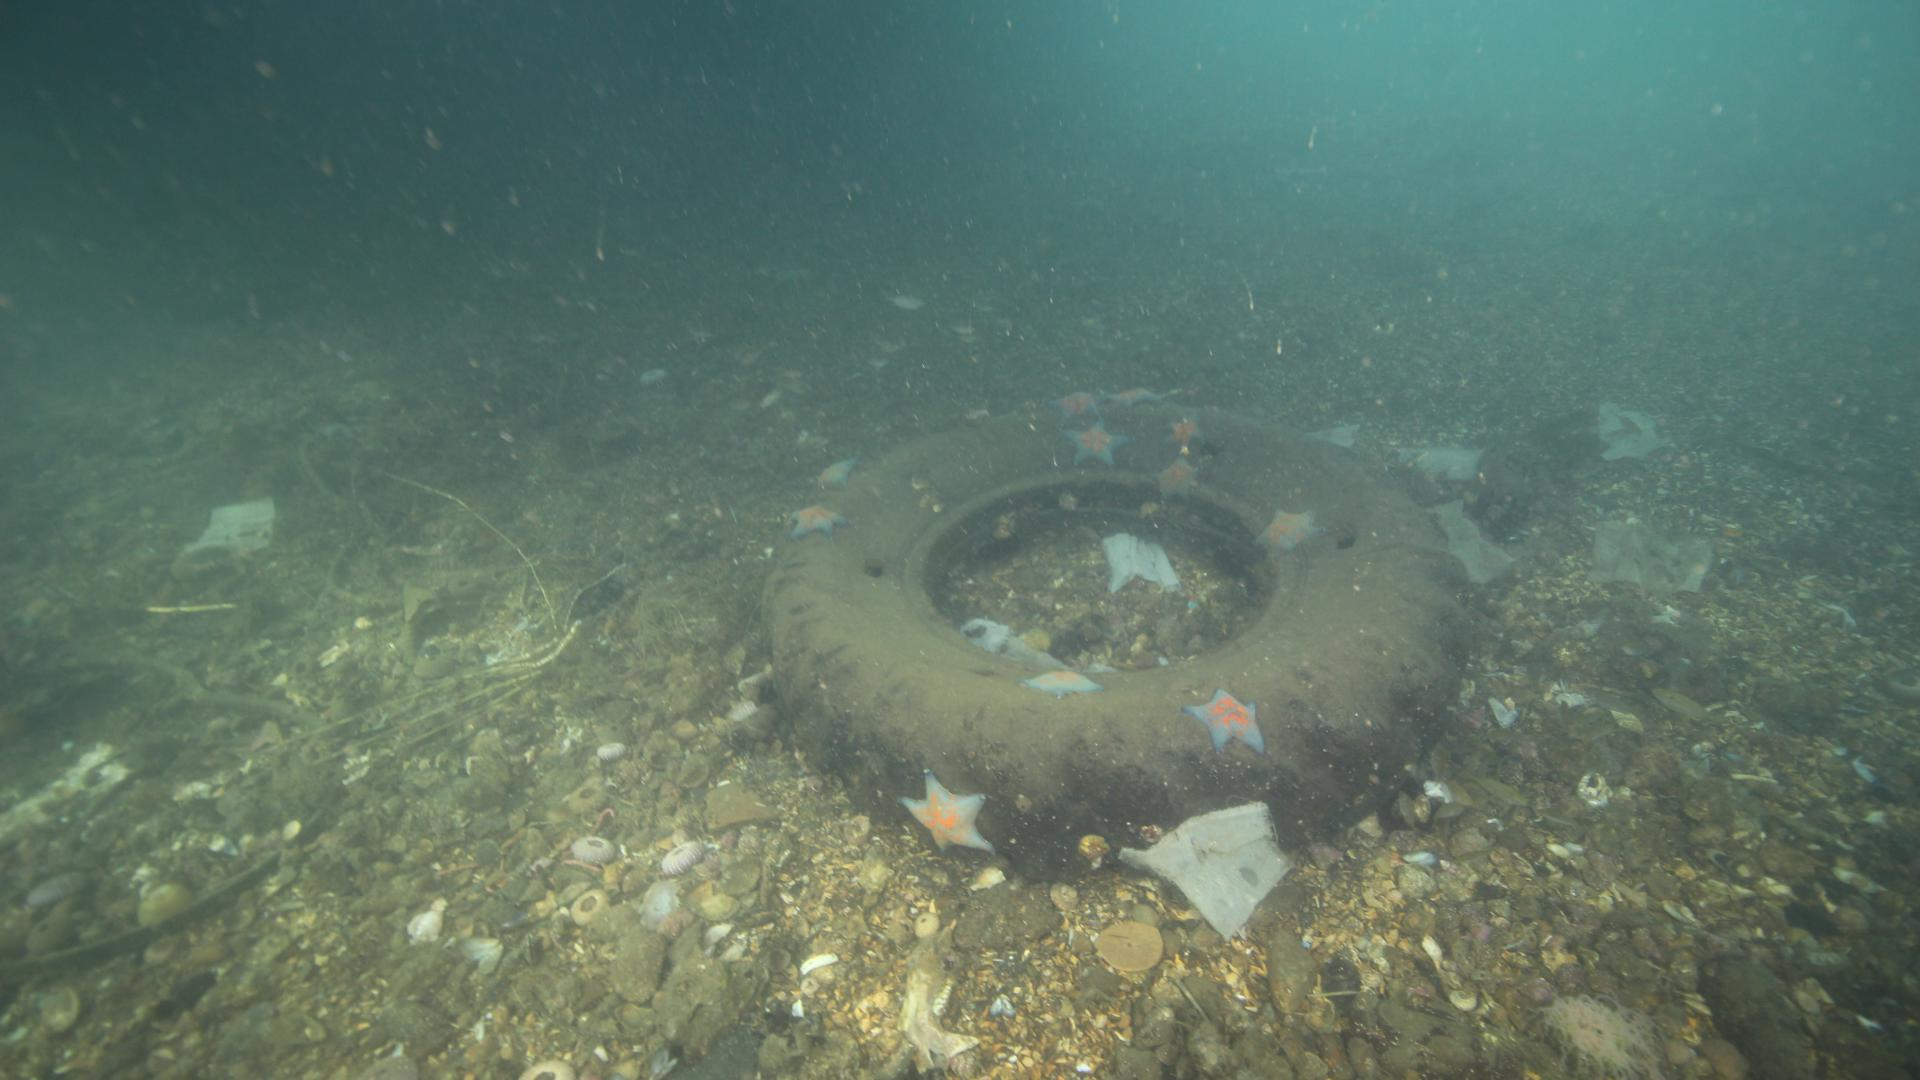tire: (762, 398, 1469, 865)
